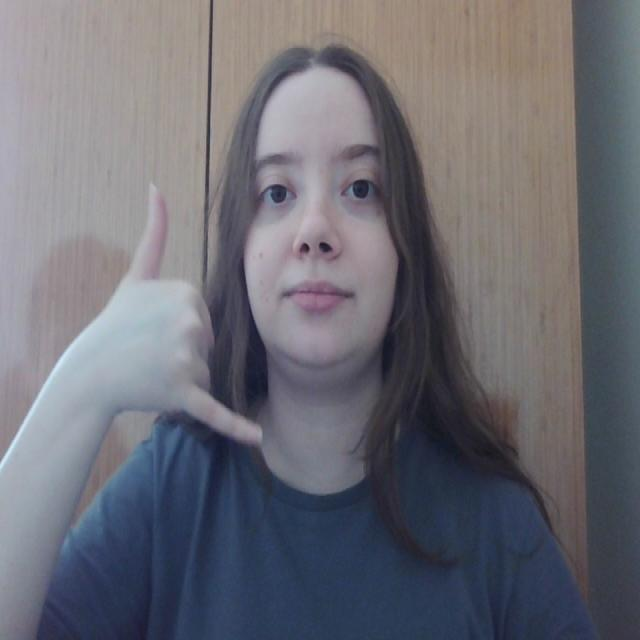Telefon: (128, 166, 268, 454)
